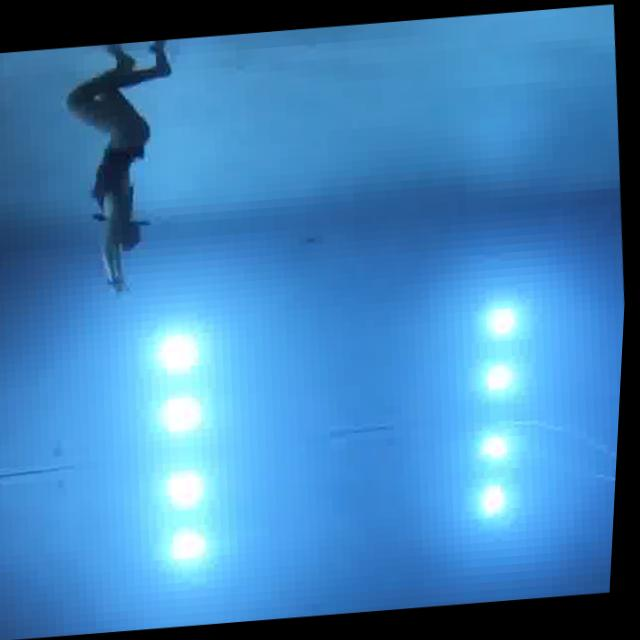human: (49, 37, 205, 305)
